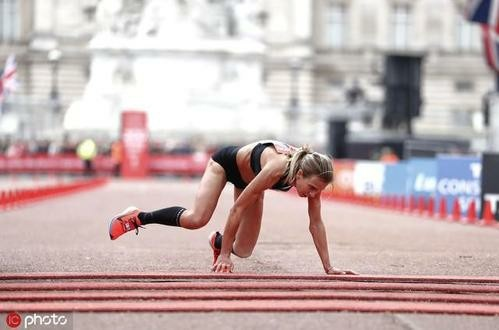falling: (103, 128, 351, 280)
